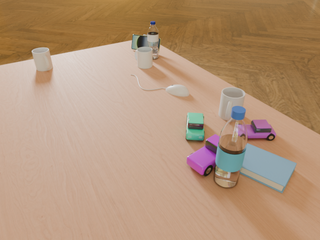book: (241, 143, 297, 193)
bottle: (214, 106, 248, 188), (147, 21, 159, 59)
cup: (219, 87, 245, 121), (32, 48, 53, 71), (135, 47, 153, 69)
mouse: (166, 85, 189, 96)
phone: (131, 35, 161, 50)
toy_car: (187, 134, 219, 176), (246, 120, 276, 141), (186, 113, 204, 140)
